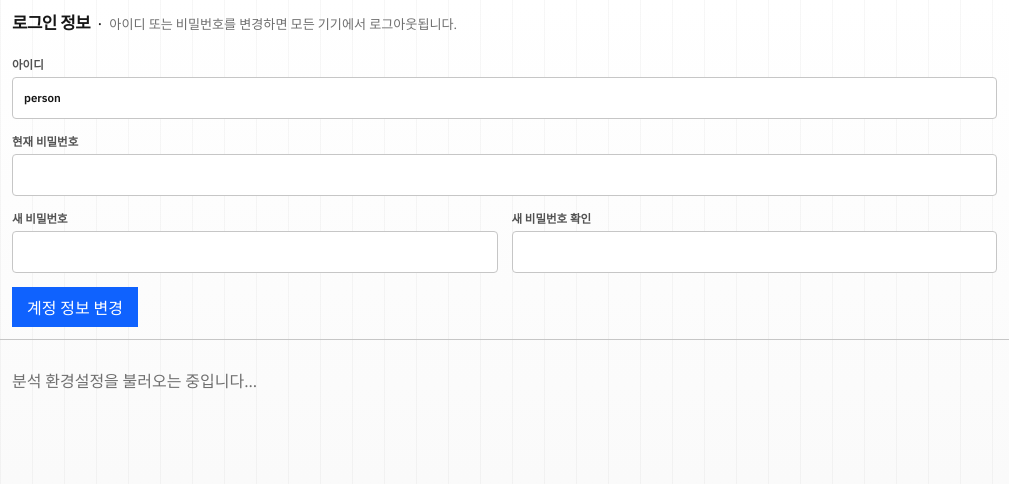
Test: blocks mismatched new passwords without sending a request
Type "long-enough-password" into the password field labelled "현재 비밀번호" at (504, 174), box [12,154,997,196]
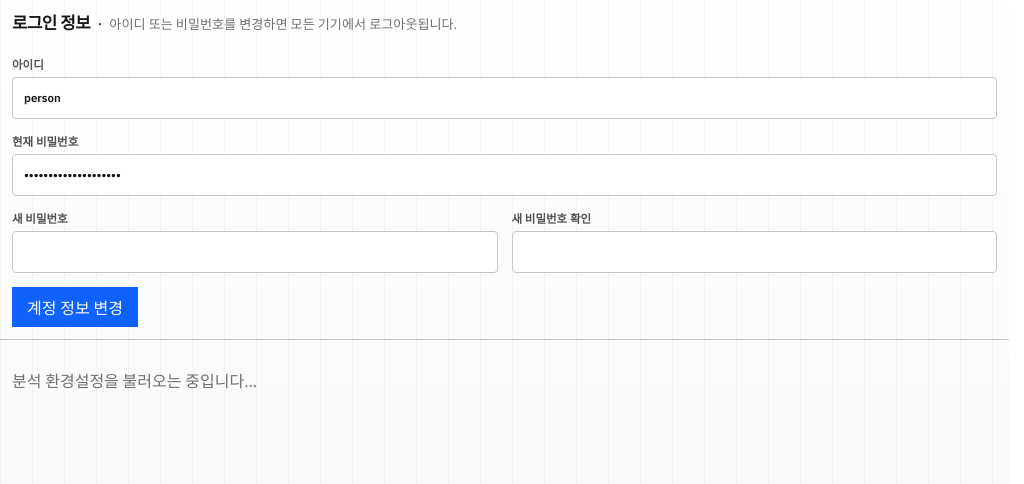
Type "new-long-enough-password" into the password field labelled "새 비밀번호" at (255, 252), box [12,230,498,272]
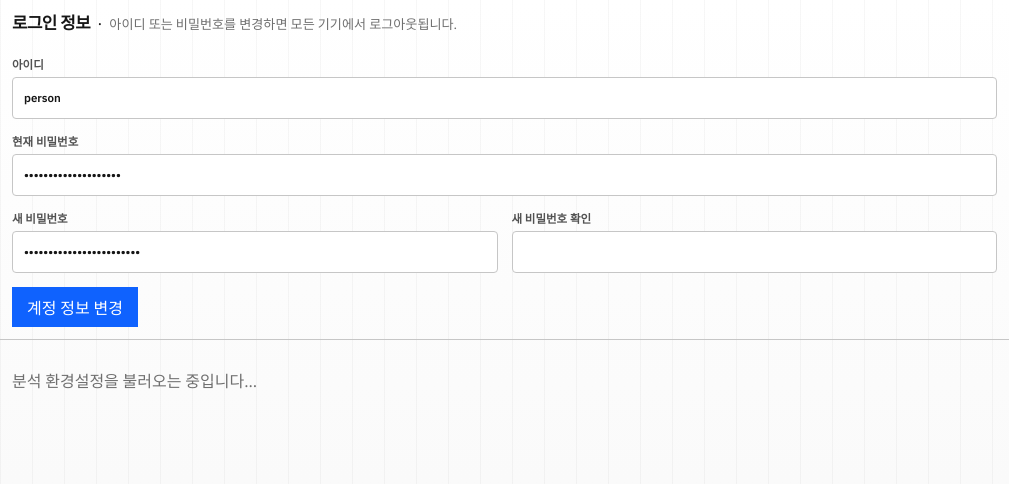
Type "different-long-password" into the password field labelled "새 비밀번호 확인" at (754, 252), box [512,230,997,272]
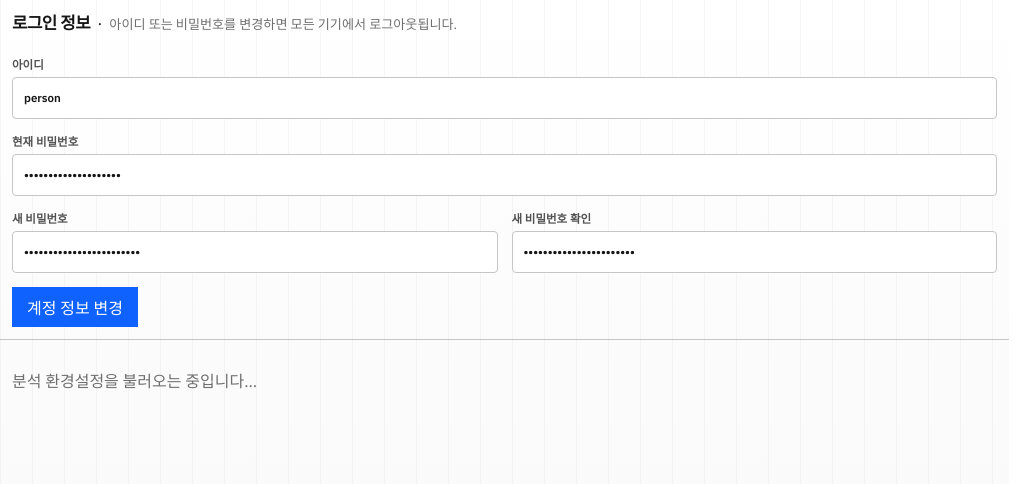
Click the button "계정 정보 변경" at (75, 306), box [12,286,138,326]
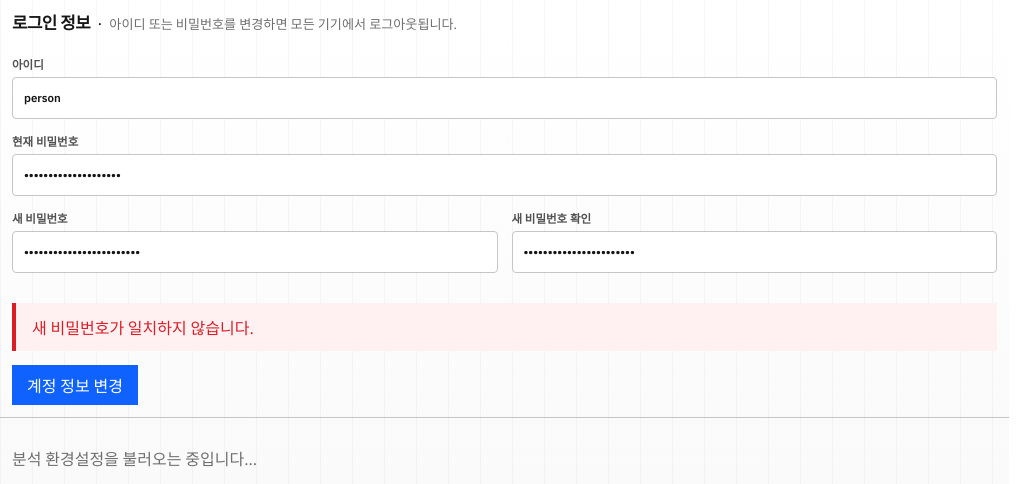
Expected: the message "새 비밀번호가 일치하지 않습니다." is shown, [12,302,997,350]
